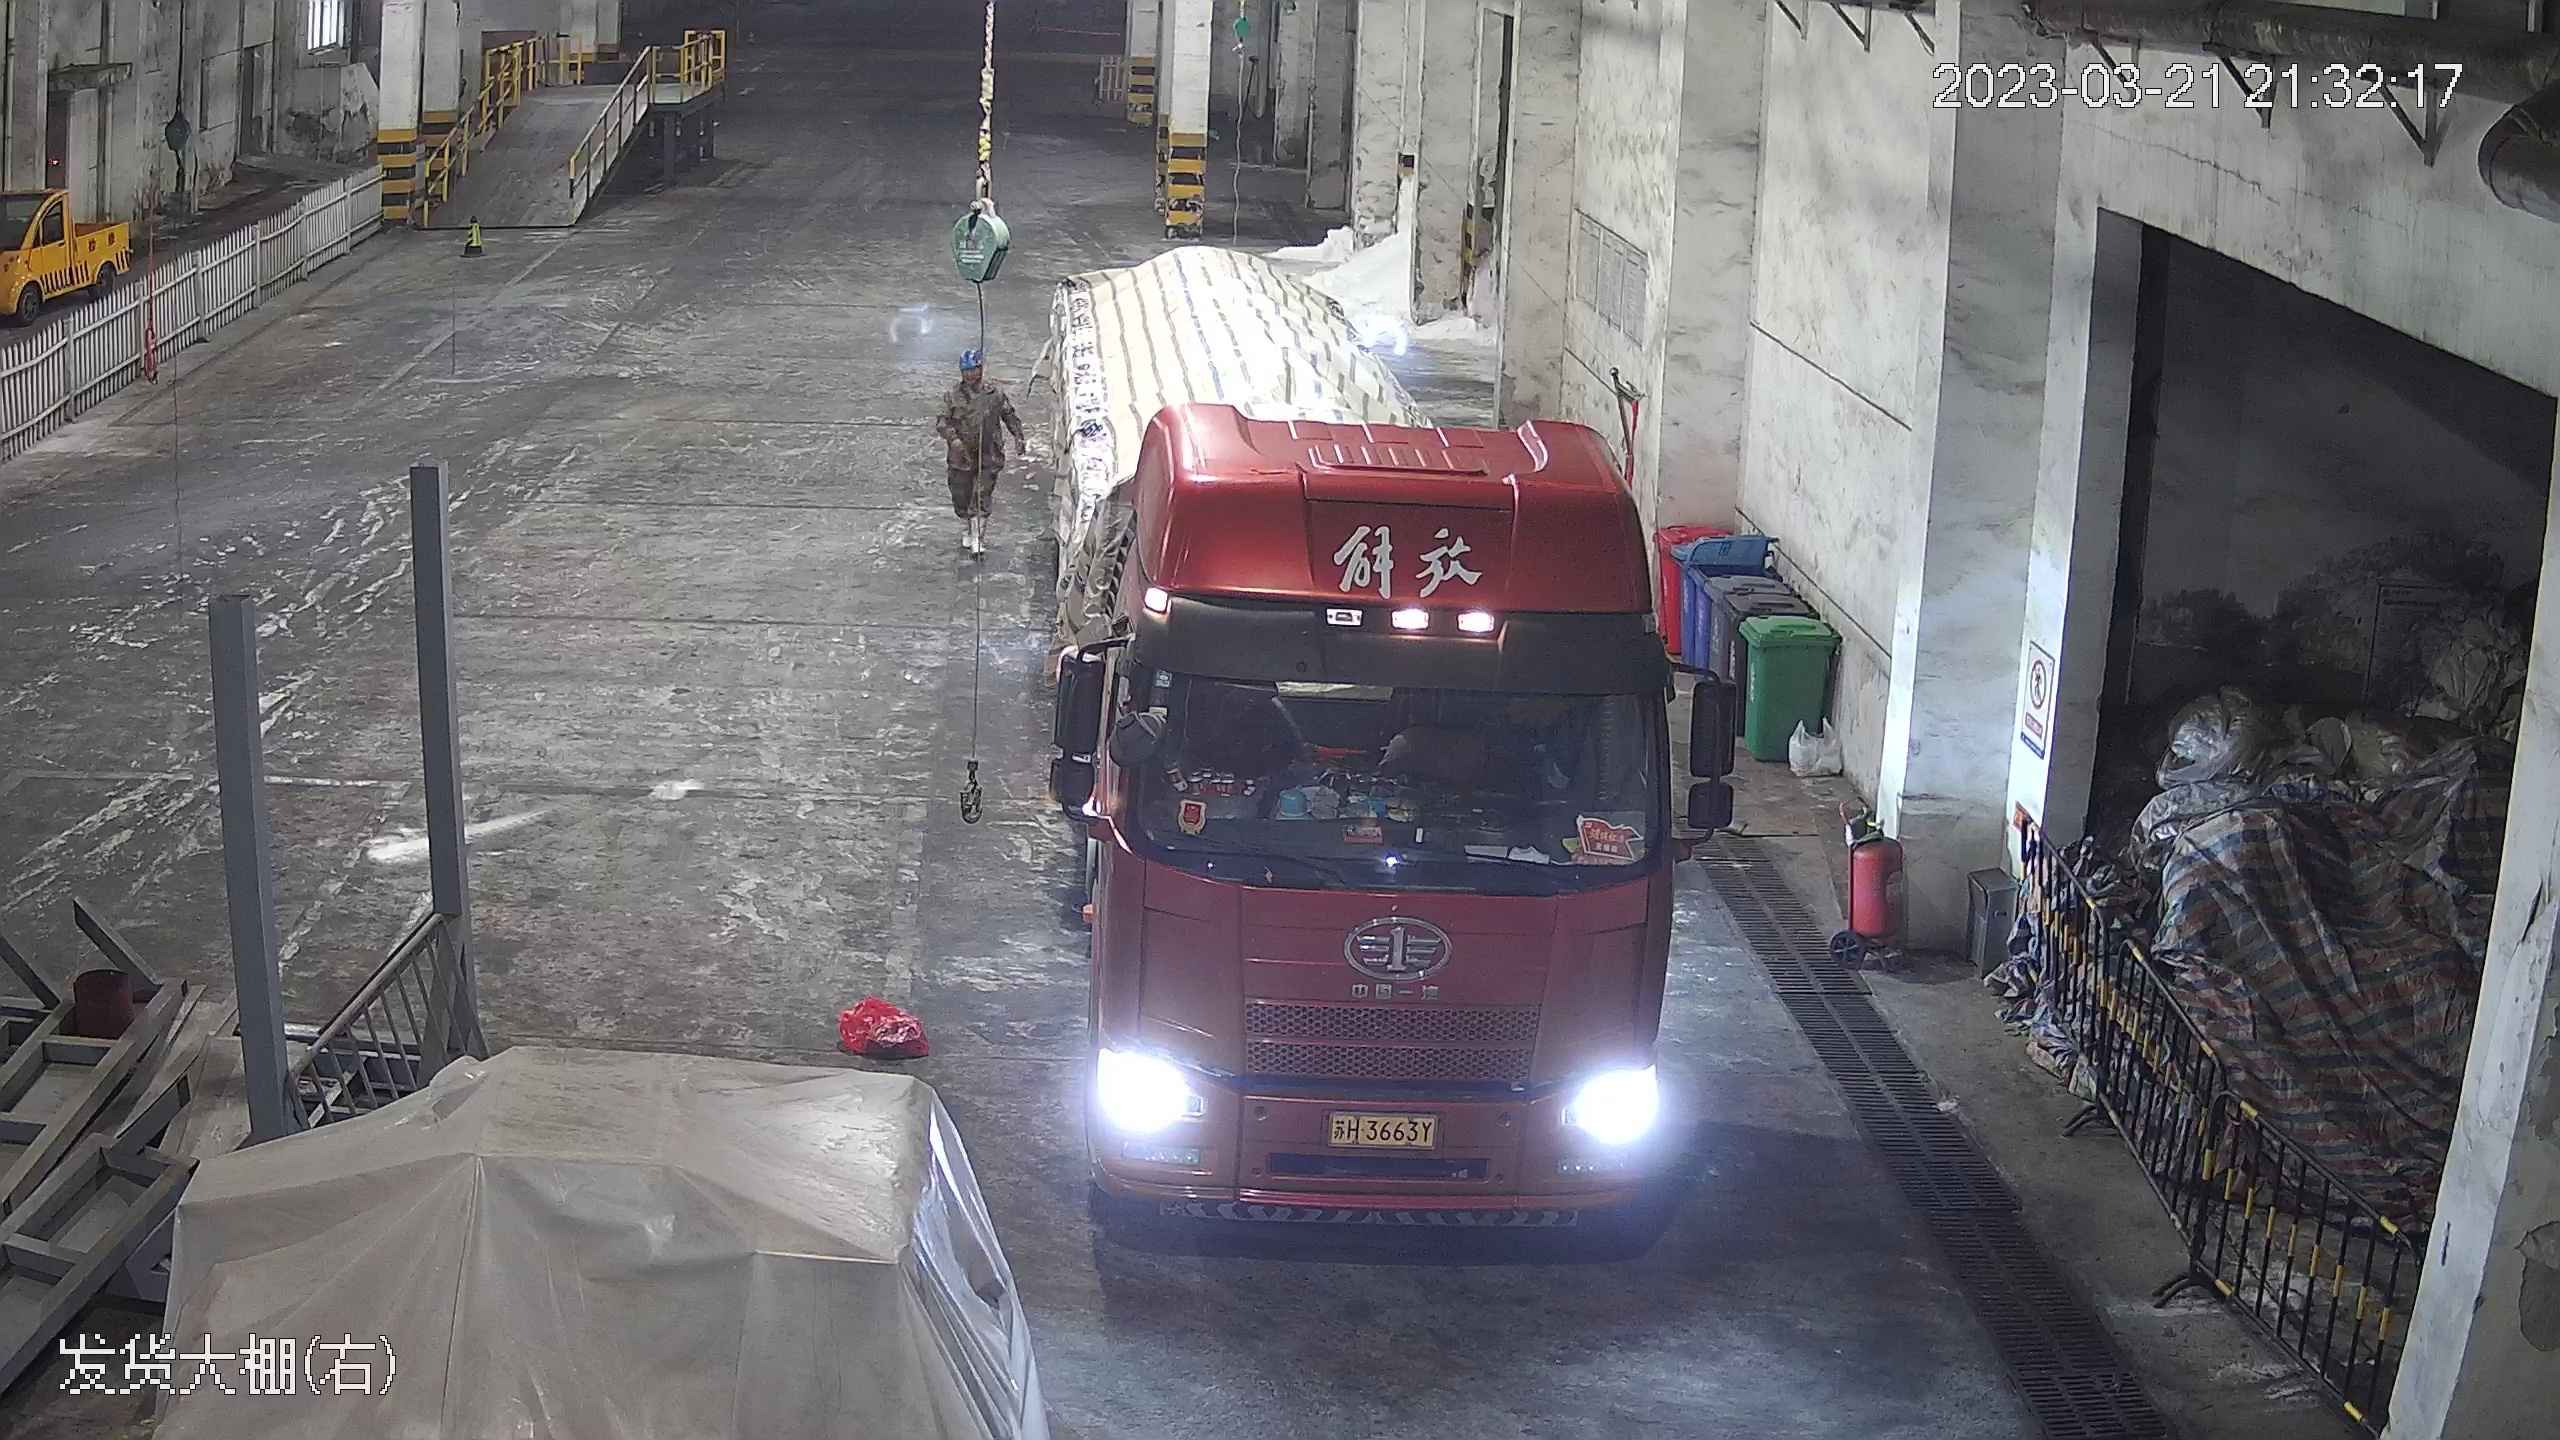head: (945, 349, 1008, 412)
helmet: (955, 347, 983, 371)
people: (936, 345, 1017, 544)
truck: (1007, 245, 1740, 1270)
